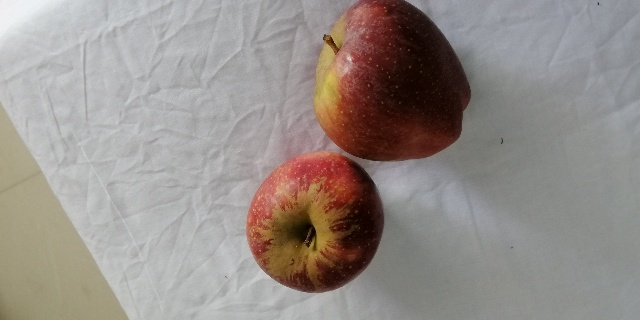apple_kashmir: (310, 0, 475, 160), (245, 153, 392, 292)
